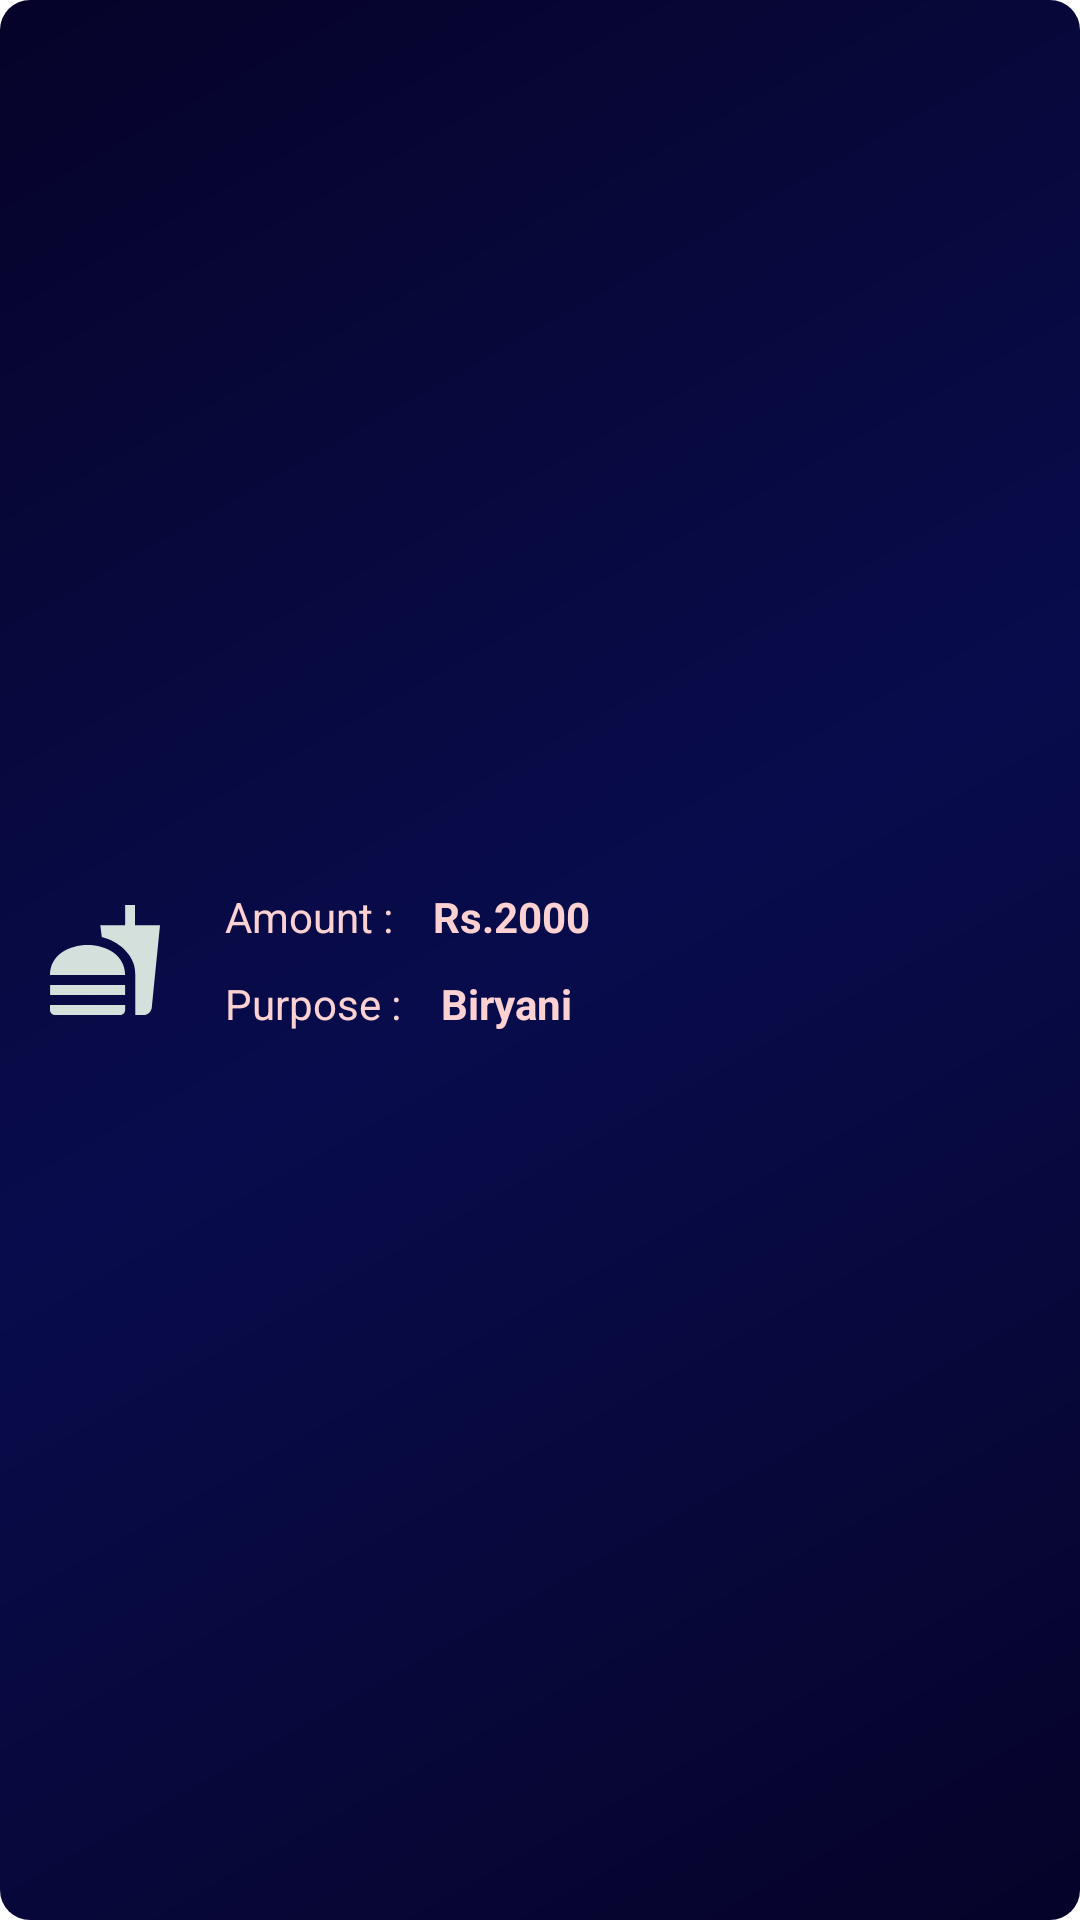

Screen size 1080 x 1920. Icon name, then its center in pixels as (x=x, y=y):
fastfood: (x=105, y=960)
